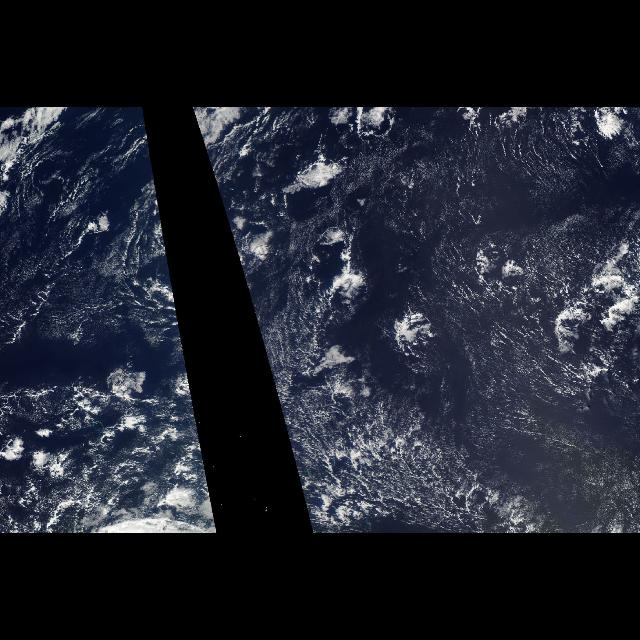Gravel: (291, 390, 527, 532), (224, 141, 360, 377), (428, 242, 640, 382), (9, 381, 193, 527)
Sugar: (370, 125, 640, 533)
